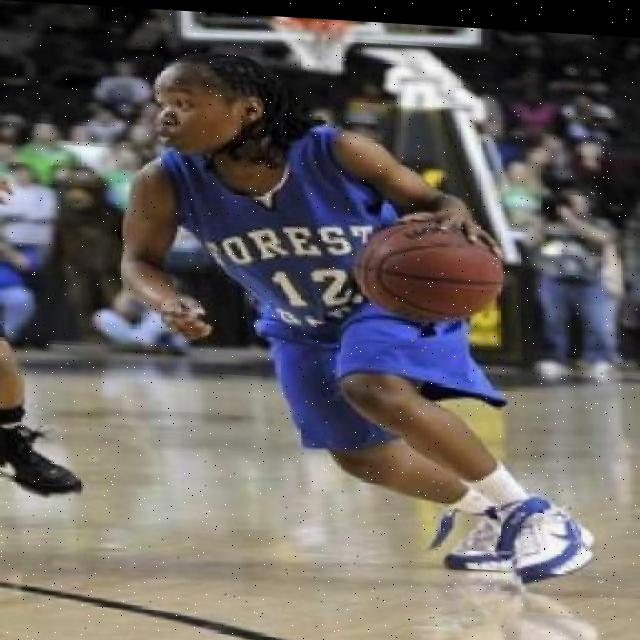basketball: (355, 217, 503, 331)
hoop: (271, 16, 360, 75)
